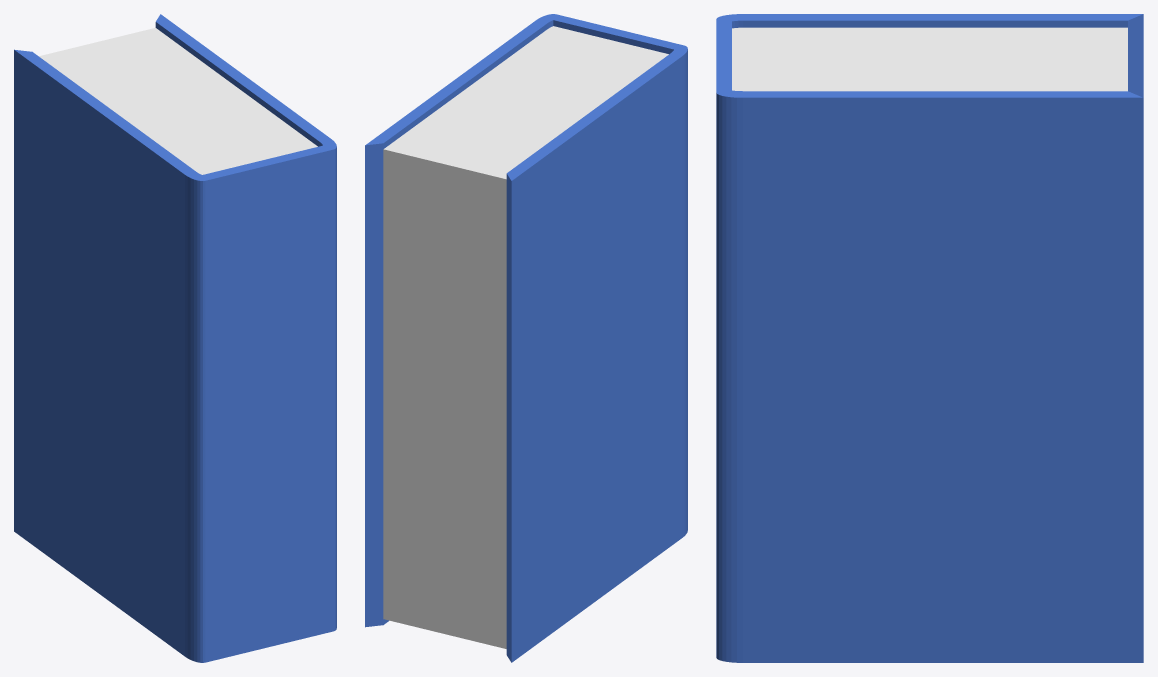
File: Book.fbx
3 renders of one model, left to right at view 1: azimuth 30°, elevation 25°; view 2: azimuth 150°, elevation 25°; view 3: azimuth 270°, elevation 25°, orthographic. The views are drawn at different scales.
Visible parts, largest first — view 1: book; view 2: book; view 3: book.
Part boxes in pixels (x1,y1,x2,y2): book: (14,14,336,662); book: (365,14,687,662); book: (716,14,1143,662).
Size of the model in its own units: 0.0919 by 0.198 by 0.289.
